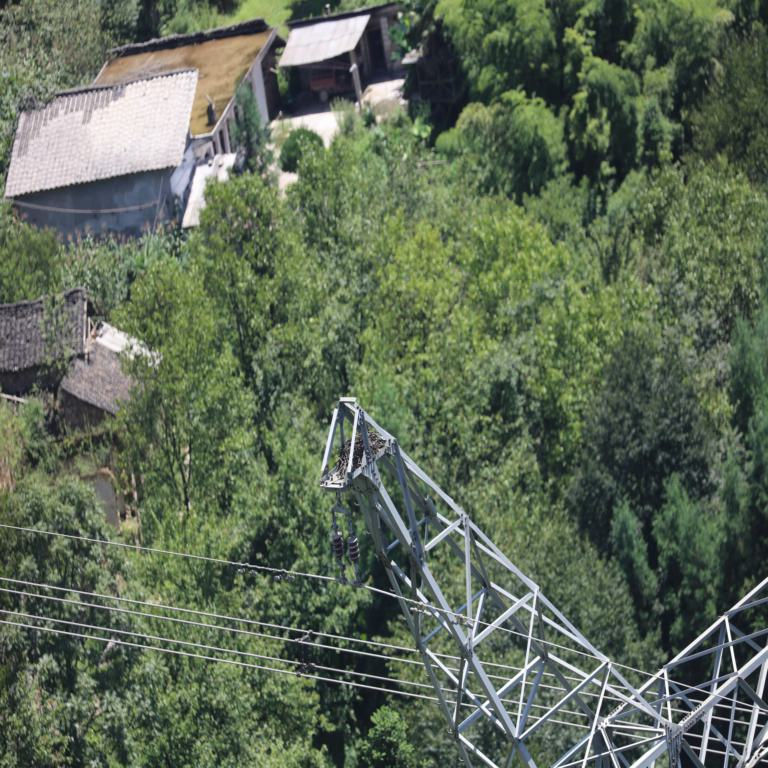nest: (340, 435, 381, 469)
